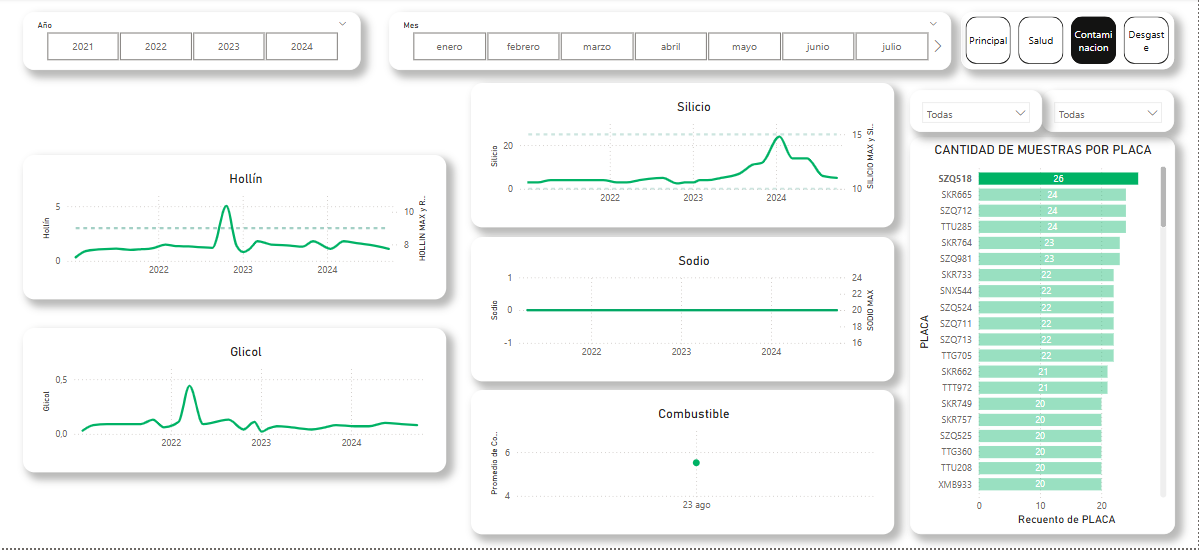

What the dashboard file says about the page in this screenshot:
{"tool":"powerbi","page":{"name":"Contaminacion","canvas":[1580,720],"ordinal":2},"visuals":[{"type":"slicer","fields":{"Values":["Historial.FECHA DE TOMA .Variación.Jerarquía de fechas.Año"]},"box":[40.3,18.5,441.8,75.6],"z":0},{"type":"slicer","fields":{"Values":["Historial.FECHA DE TOMA .Variación.Jerarquía de fechas.Mes"]},"box":[519.1,18.5,735.7,75.6],"z":1000},{"type":"pageNavigator","box":[1269.1,18.7,278.6,74.8],"z":2000},{"type":"barChart","title":"CANTIDAD DE MUESTRAS POR PLACA","fields":{"Category":["Historial.PLACA "],"Y":["CountNonNull(Historial.PLACA )"]},"box":[1201.1,181.8,346.6,519.9],"z":3000},{"type":"lineChart","title":"Hollín","fields":{"Y":["Avg(Historial.Hollín)"],"Category":["Historial.FECHA DE TOMA "],"Y2":["CountNonNull(LIMITES.HOLLIN_MAX)","CountNonNull(LIMITES.HOLLIN_MIN)"]},"box":[40.8,205.6,553.8,188.6],"z":5000},{"type":"lineChart","title":"Silicio","fields":{"Y":["Avg(Historial.Si� Silicio)"],"Category":["Historial.FECHA DE TOMA "],"Y2":["Avg(LIMITES.SILICIO_MAX)","Avg(LIMITES.SILICIO_MIN)"]},"box":[626.9,111.4,553.8,188.6],"z":6000},{"type":"lineChart","title":"Glicol","fields":{"Y":["Avg(Historial.Glicol)"],"Category":["Historial.FECHA DE TOMA "]},"box":[40.8,431.5,553.8,188.6],"z":7000},{"type":"lineChart","title":"Sodio","fields":{"Y":["Avg(Historial.Na� Sodio)"],"Category":["Historial.FECHA DE TOMA "],"Y2":["Avg(LIMITES.SODIO_MAX)"]},"box":[626.9,312.6,553.8,188.6],"z":8000},{"type":"lineChart","title":"Combustible","fields":{"Y":["Avg(Historial.Combustible)"],"Category":["Historial.FECHA DE TOMA "]},"box":[626.9,513.1,553.8,188.6],"z":9000},{"type":"slicer","fields":{"Values":["Historial.PLACA "]},"box":[1375,120,173.3,55],"z":9001},{"type":"slicer","fields":{"Values":["Historial.ESTADO "]},"box":[1201.7,120,173.3,55],"z":9002}]}

Visuals, with their boxes in screenshot pixels (x1, y1, x2, y2), scaled from the page's 1580x720 canvas onto the 1199x552 screenshot:
slicer - Historial.FECHA DE TOMA .Variación.Jerarquía de fechas.Año: rect(31, 14, 366, 72)
slicer - Historial.FECHA DE TOMA .Variación.Jerarquía de fechas.Mes: rect(394, 14, 952, 72)
pageNavigator: rect(963, 14, 1174, 72)
"CANTIDAD DE MUESTRAS POR PLACA" barChart: rect(911, 139, 1174, 538)
"Hollín" lineChart: rect(31, 158, 451, 302)
"Silicio" lineChart: rect(476, 85, 896, 230)
"Glicol" lineChart: rect(31, 331, 451, 475)
"Sodio" lineChart: rect(476, 240, 896, 384)
"Combustible" lineChart: rect(476, 393, 896, 538)
slicer - Historial.PLACA : rect(1043, 92, 1175, 134)
slicer - Historial.ESTADO : rect(912, 92, 1043, 134)
